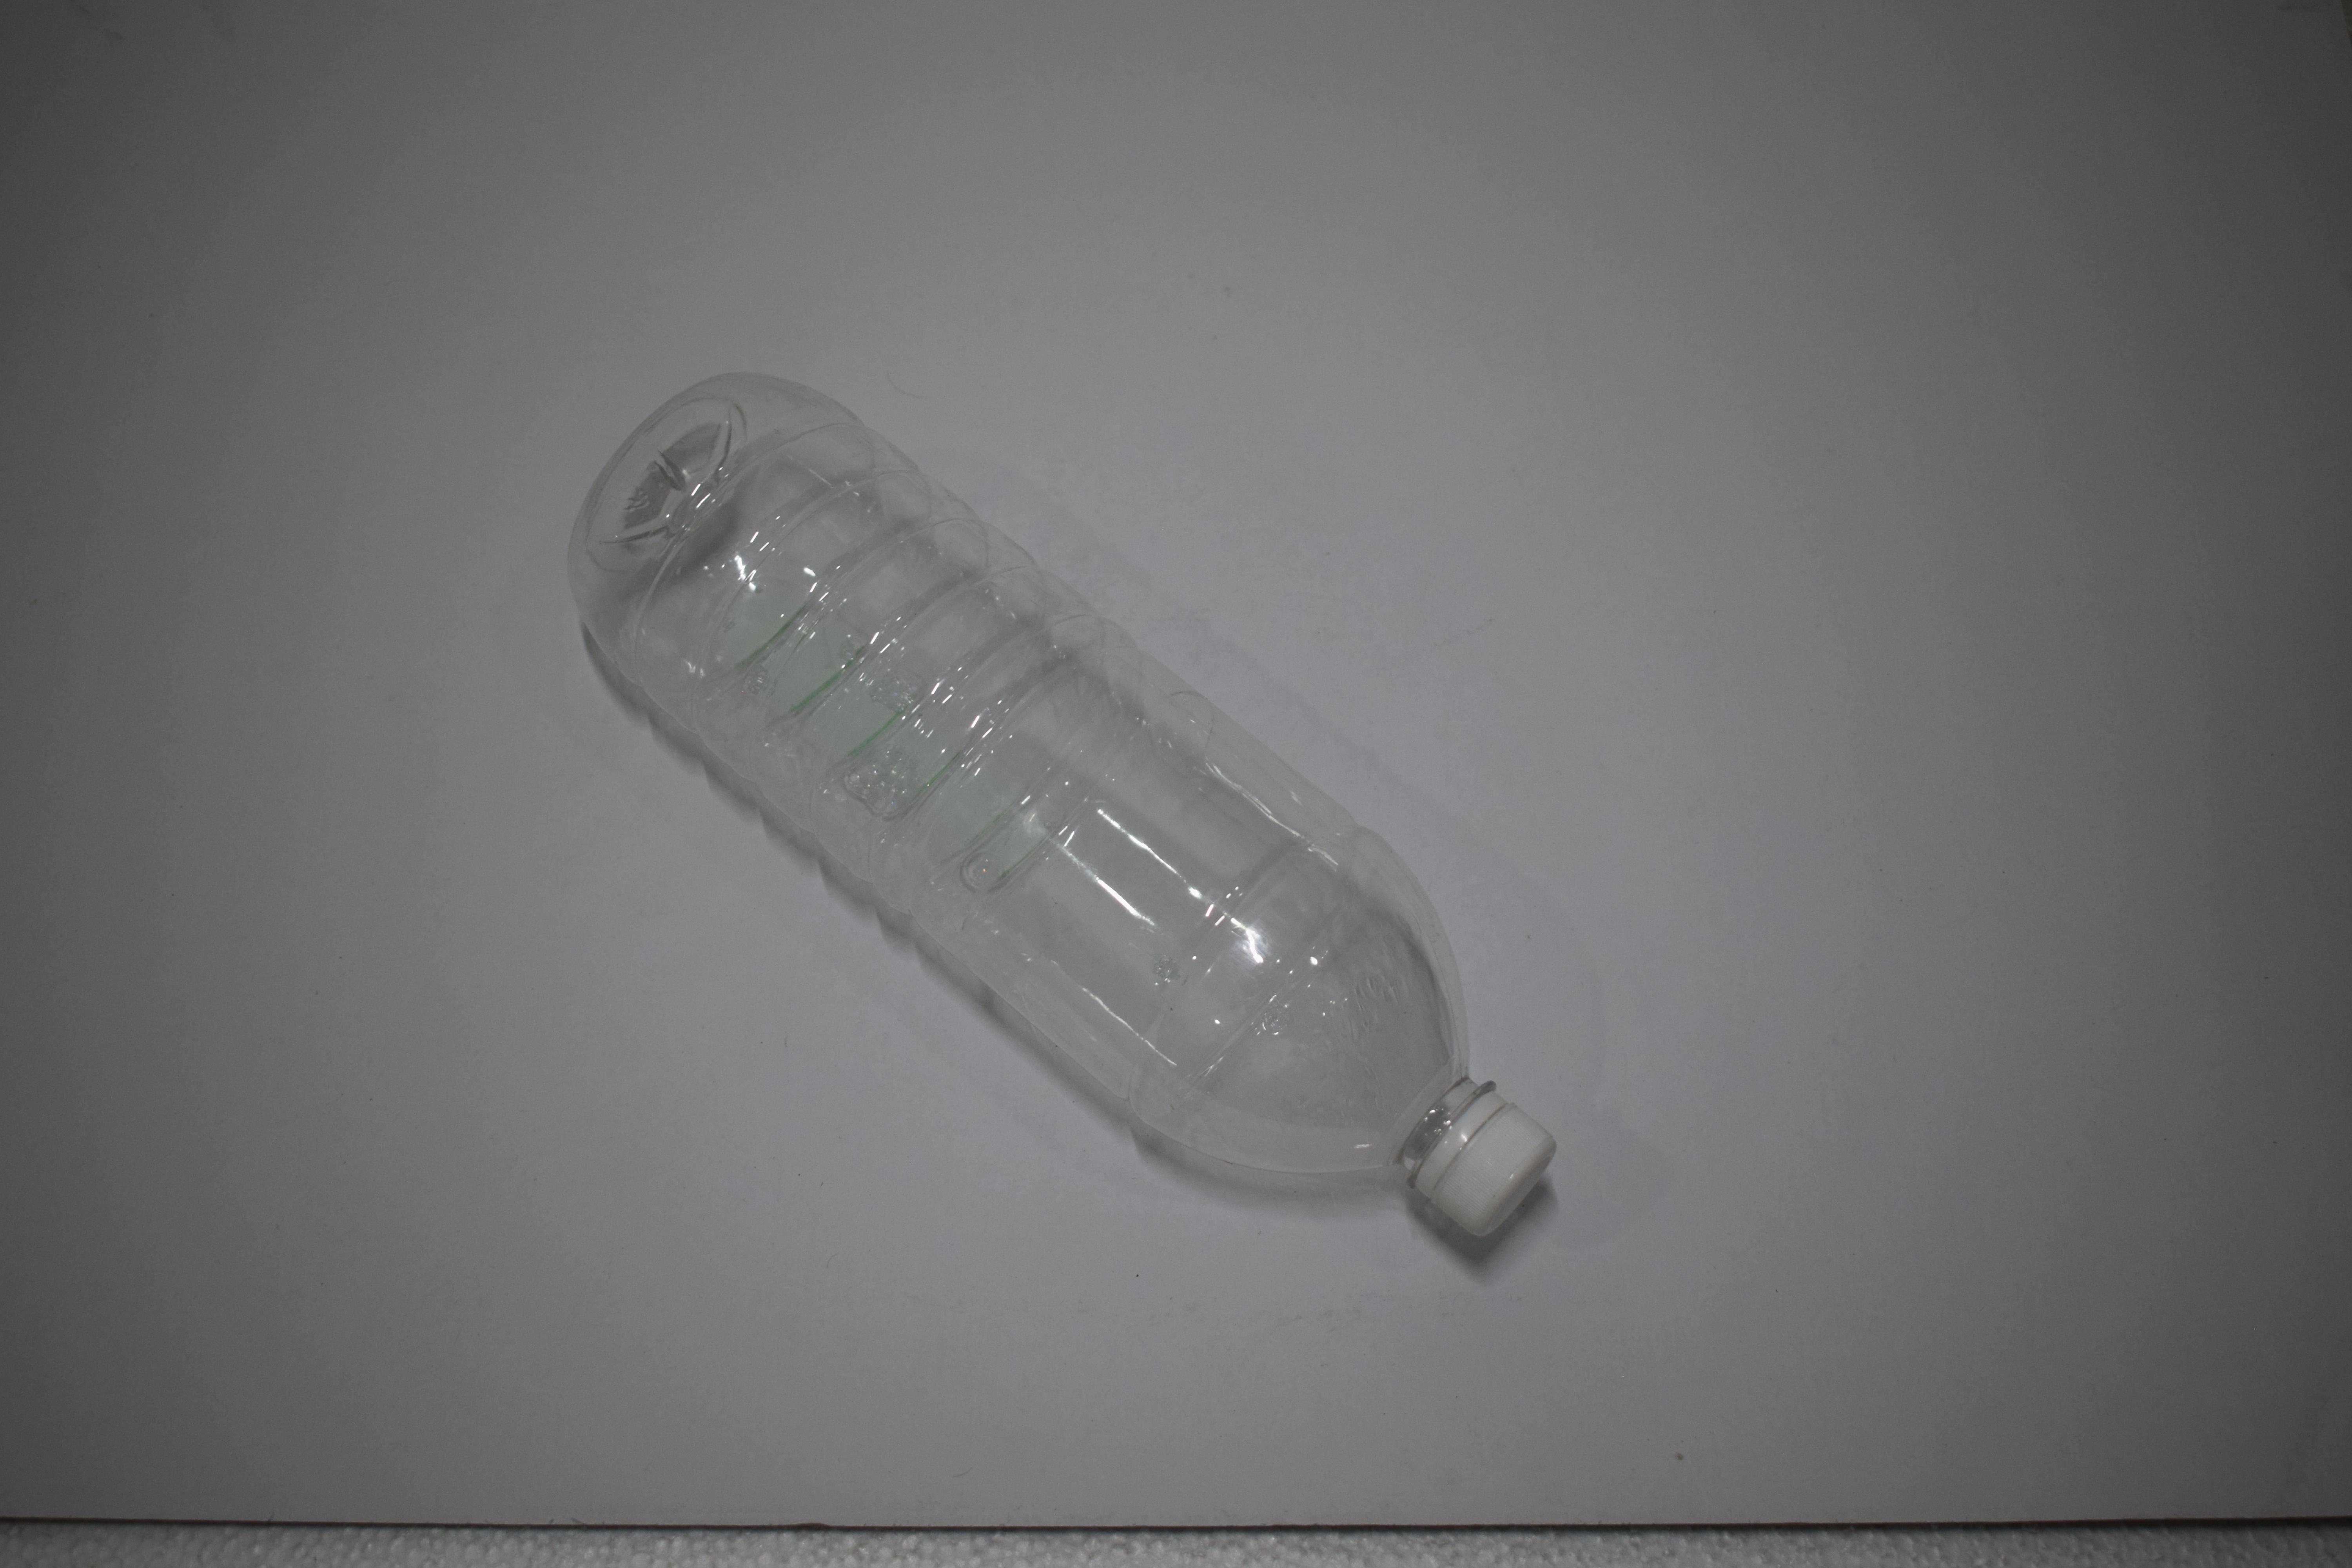bottle: (451, 0, 1440, 70)
